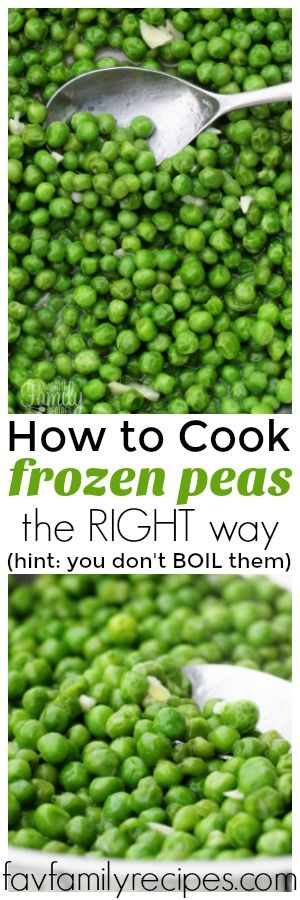boiled peas: (13, 167, 286, 408), (12, 588, 198, 852)
